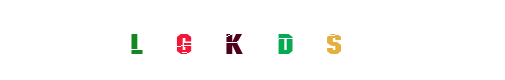D: (212, 0, 292, 80)
G: (191, 0, 271, 80)
K: (193, 0, 273, 80)
L: (143, 0, 223, 80)
S: (250, 0, 330, 80)
